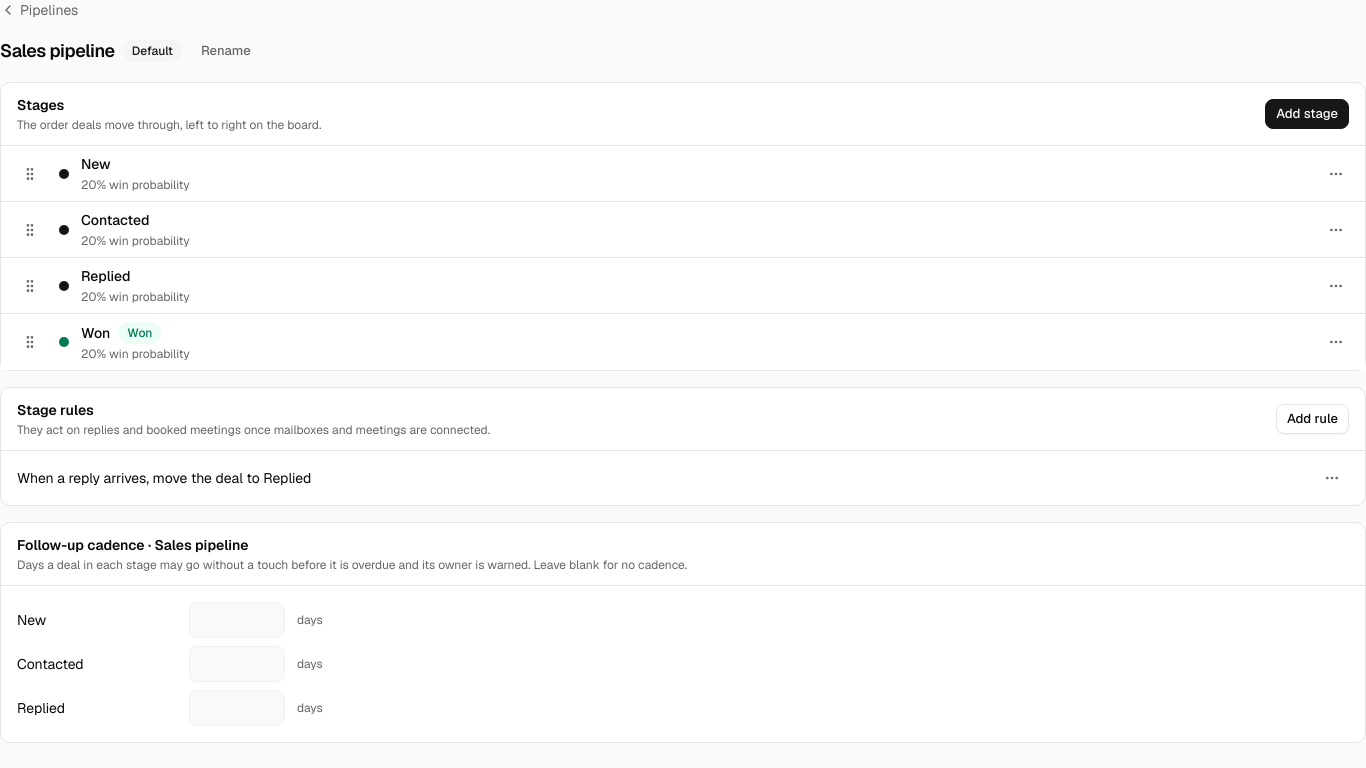
Scenario: FR-CRMS-9: pipeline settings › FR-CRMS-9: over the move limit, the server’s 413 message is shown and the step stays open
The image size is (1366, 768).
Click the button named "Actions for Contacted": {"x": 1336, "y": 230} [1319,212,1353,246]
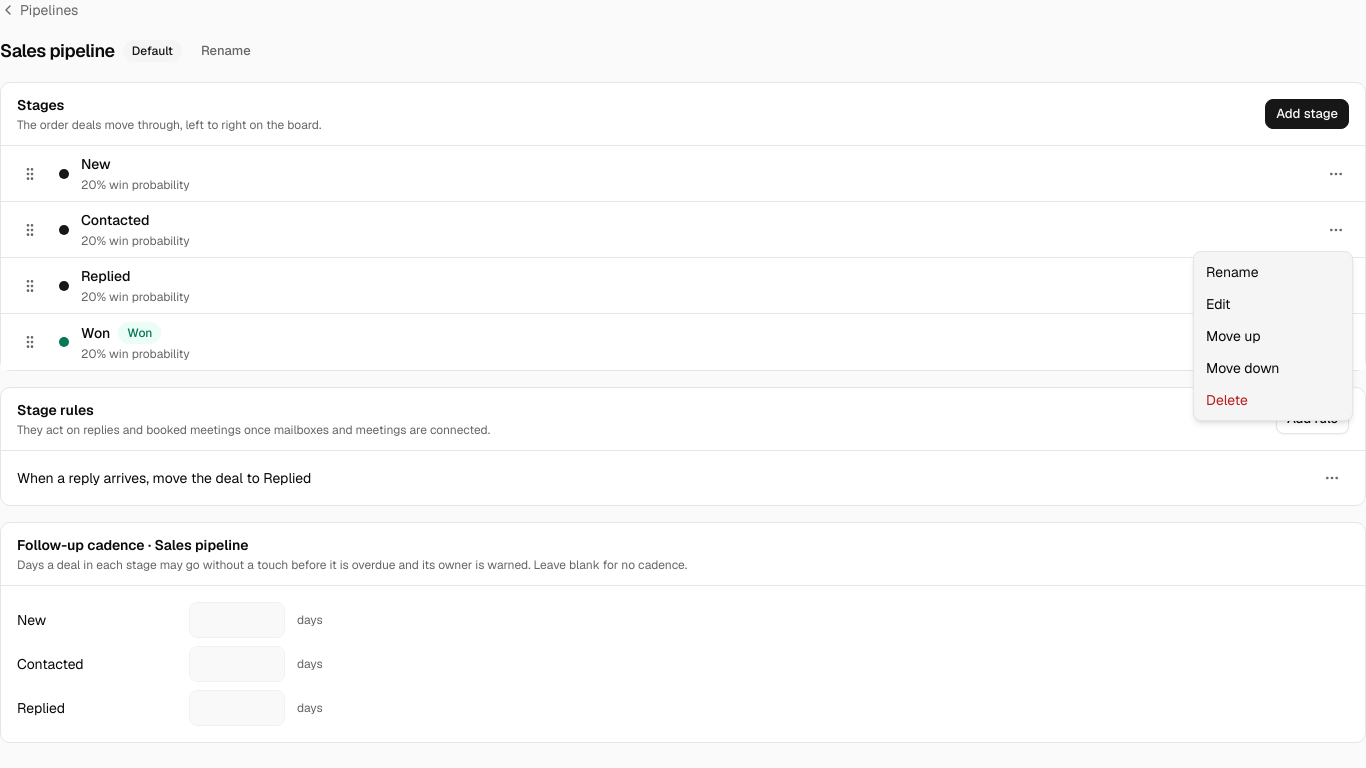
Click the menu item "Delete": {"x": 1227, "y": 400} [1206,391,1248,409]
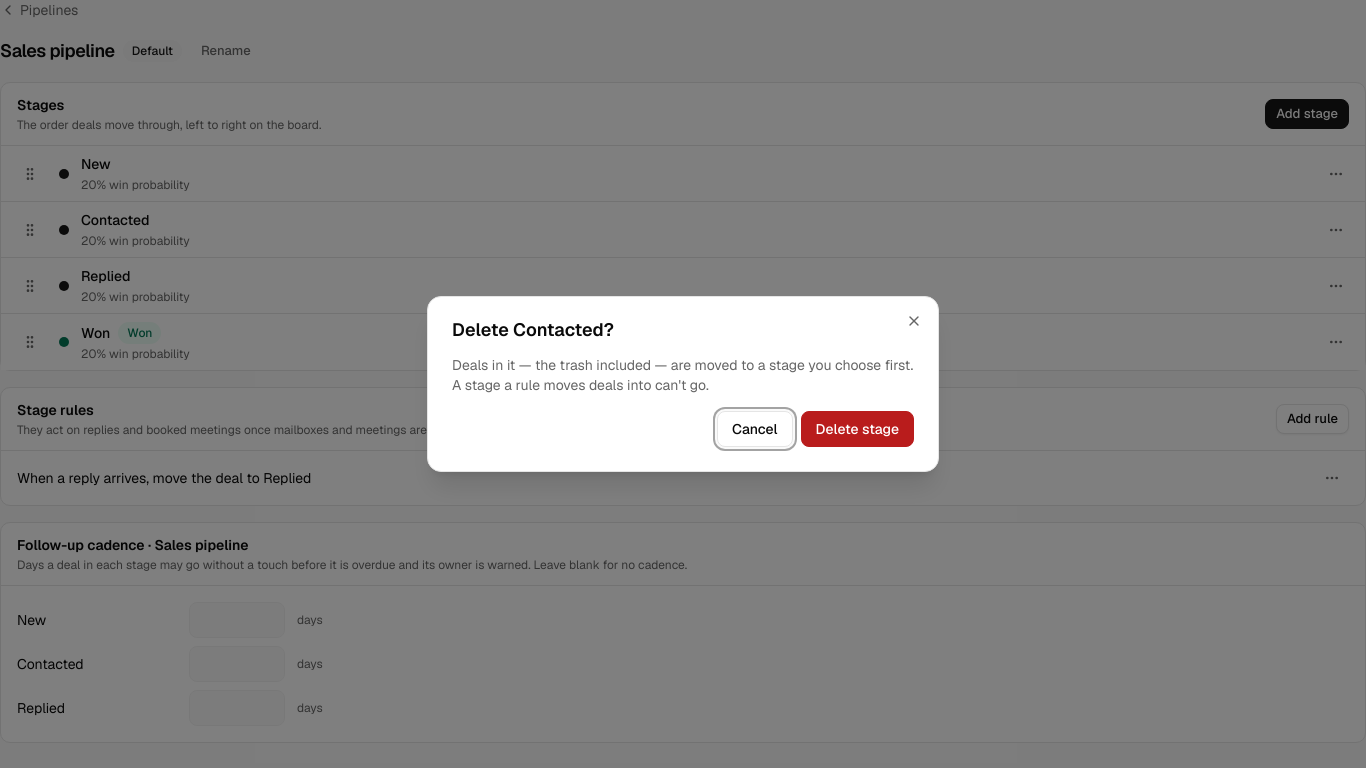
Click the button "Delete stage": {"x": 857, "y": 429} [801,411,914,447]
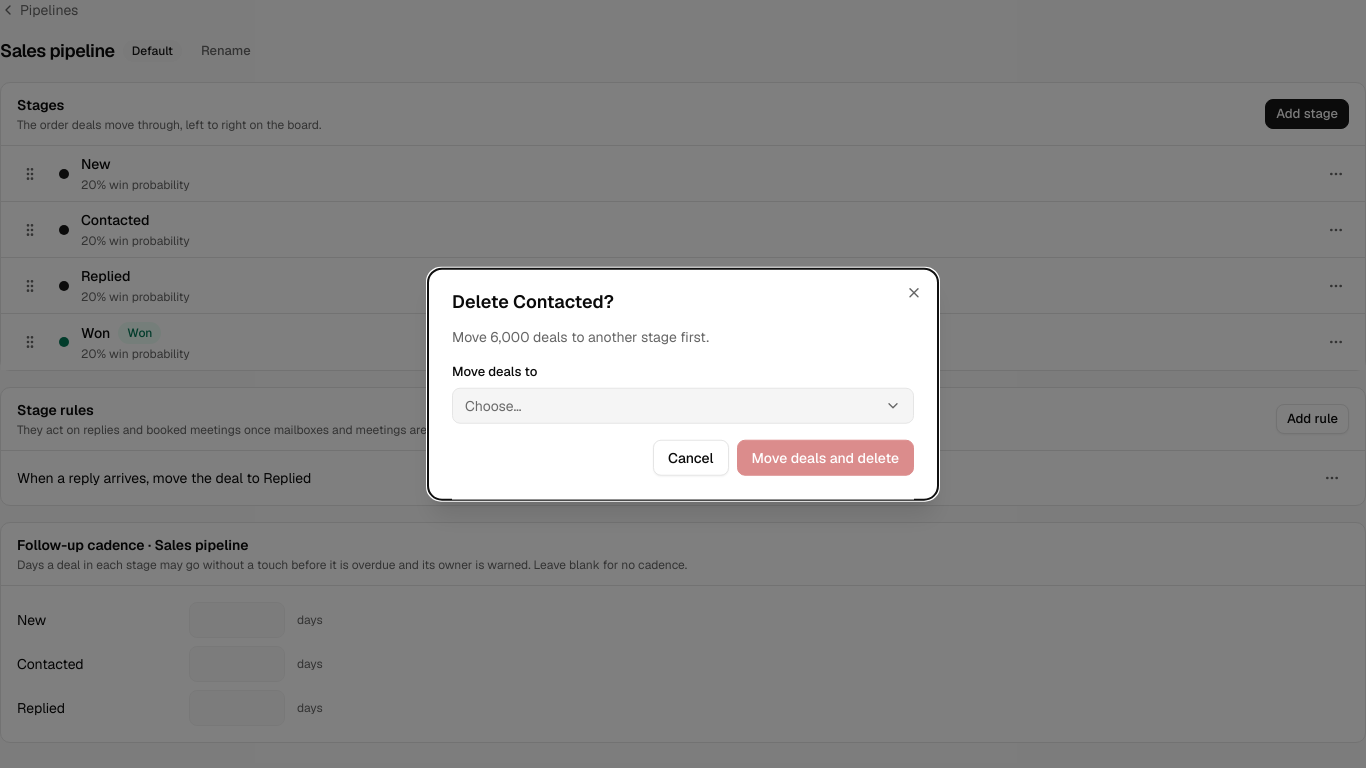
Expected: the text "Move 6,000 deals to another stage first." is shown, [452,328,709,346]
Click the dropdown named "Move deals to": {"x": 493, "y": 405} [452,387,914,423]
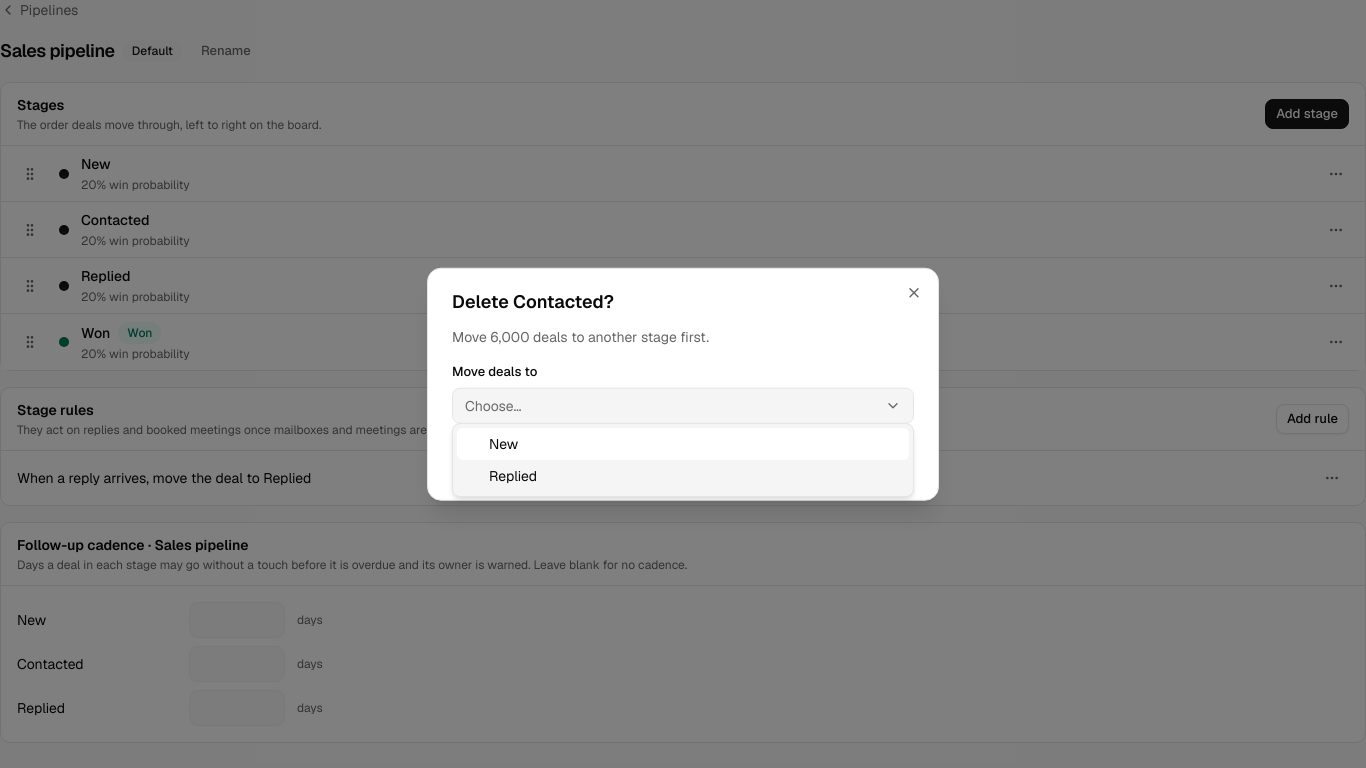
Click the option "New": {"x": 504, "y": 444} [457,428,909,460]
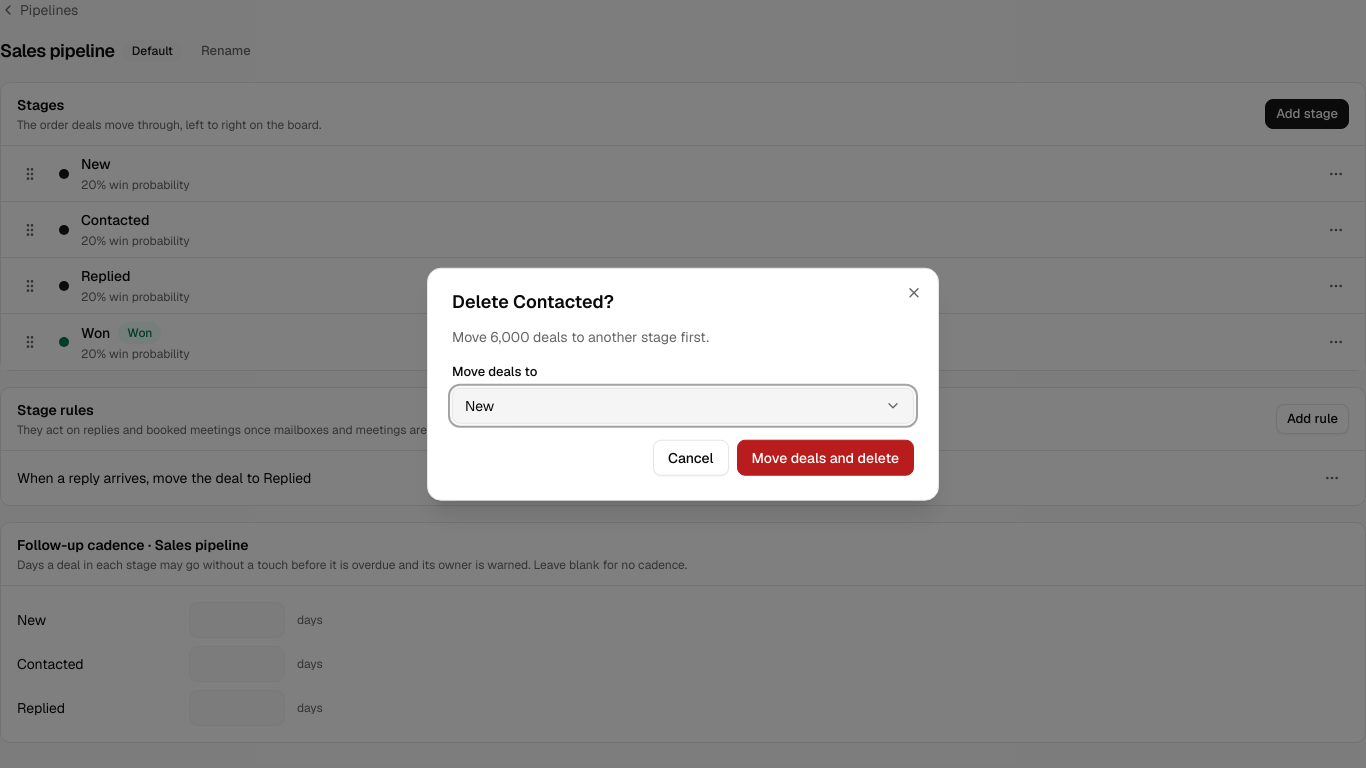
Click the button "Move deals and delete": {"x": 825, "y": 457} [736,439,914,475]
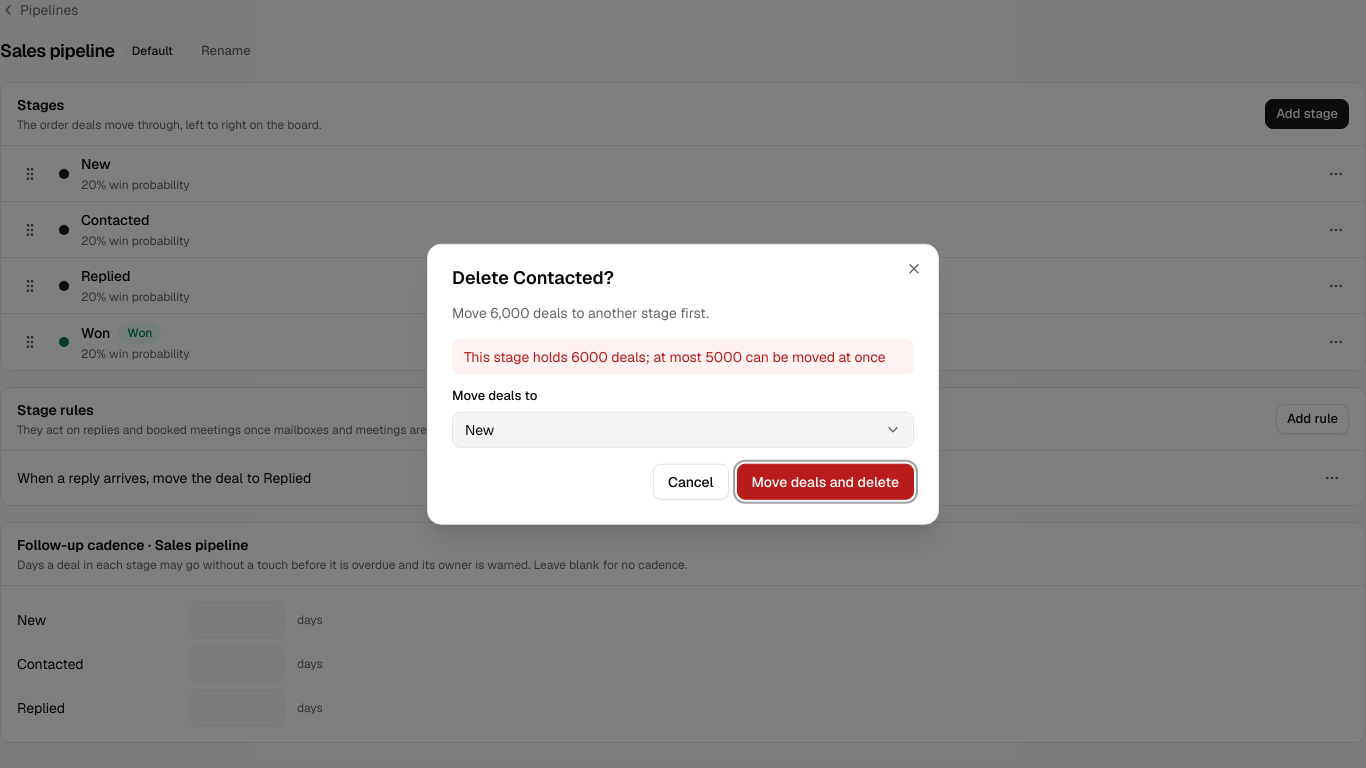
Expected: the dialog is shown, [427,244,939,524]
Expected: the text "This stage holds 6000 deals; at most 5000 can be moved at once" is shown, [452,339,914,375]
